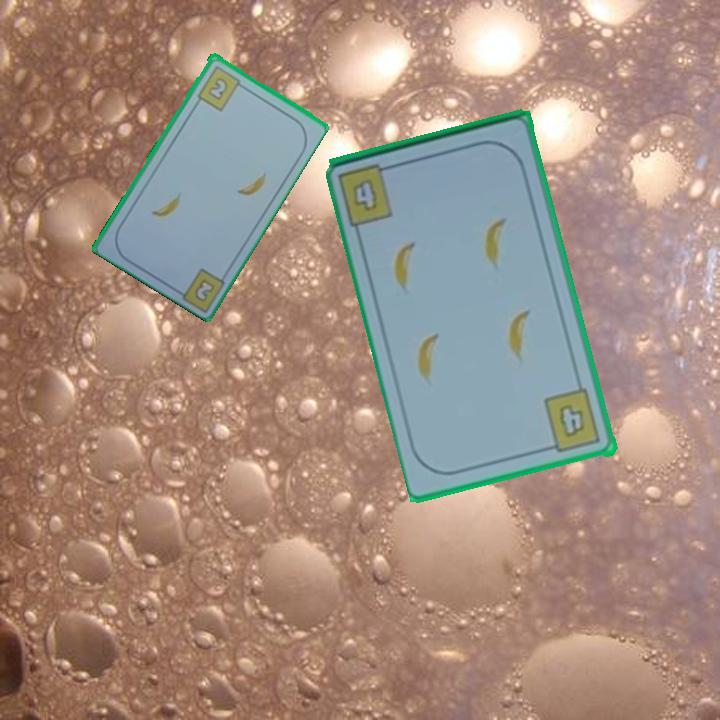2b: (193, 62, 248, 114), (191, 275, 217, 304)
4b: (334, 159, 400, 229), (541, 386, 604, 456)
